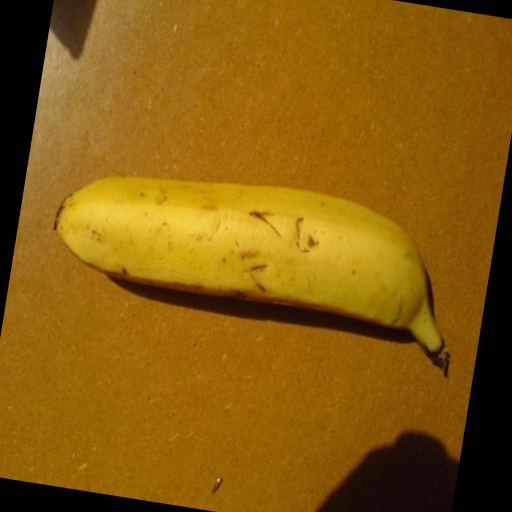fruit: (55, 177, 449, 372)
